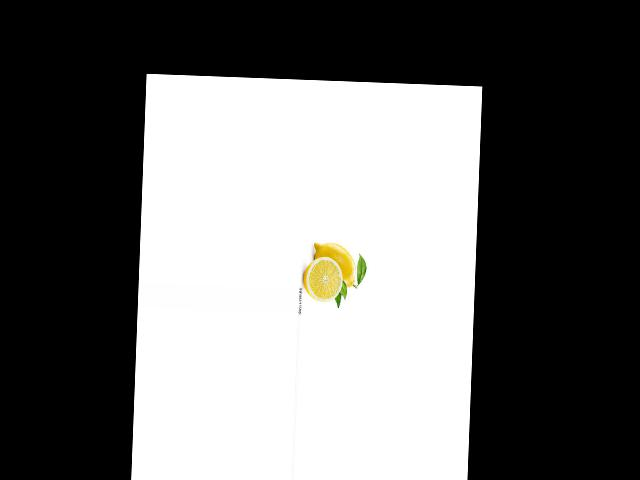lemon: (310, 234, 359, 291)
